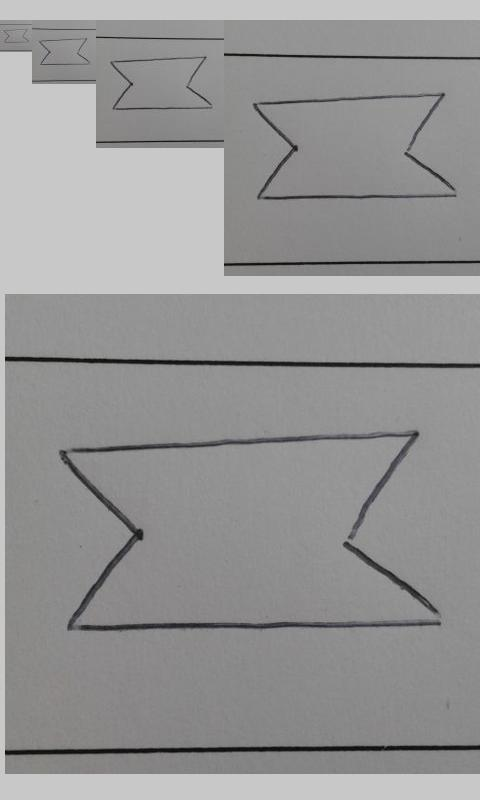edit_text: (57, 429, 448, 634), (252, 92, 457, 201), (109, 56, 213, 110), (38, 38, 91, 66), (2, 28, 30, 44)
